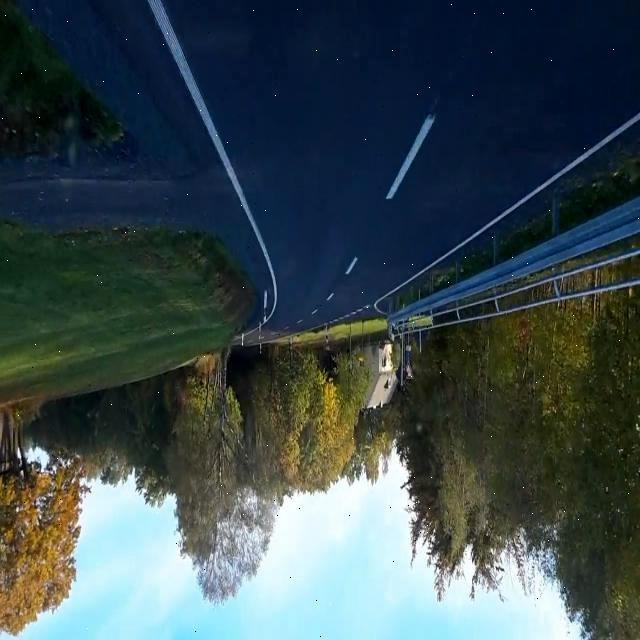lane: (374, 112, 640, 314), (148, 0, 278, 320), (387, 114, 435, 199), (387, 116, 432, 199), (345, 257, 358, 275)
road: (164, 1, 640, 339), (1, 1, 273, 313)
